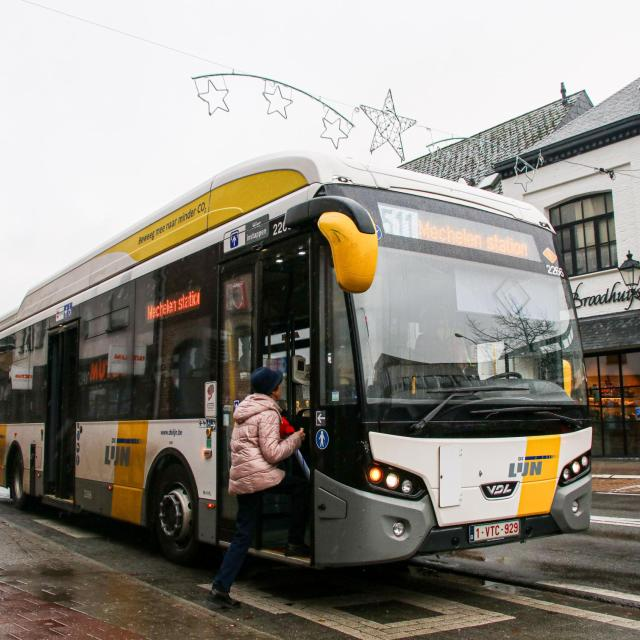bus-number: (378, 202, 418, 240)
